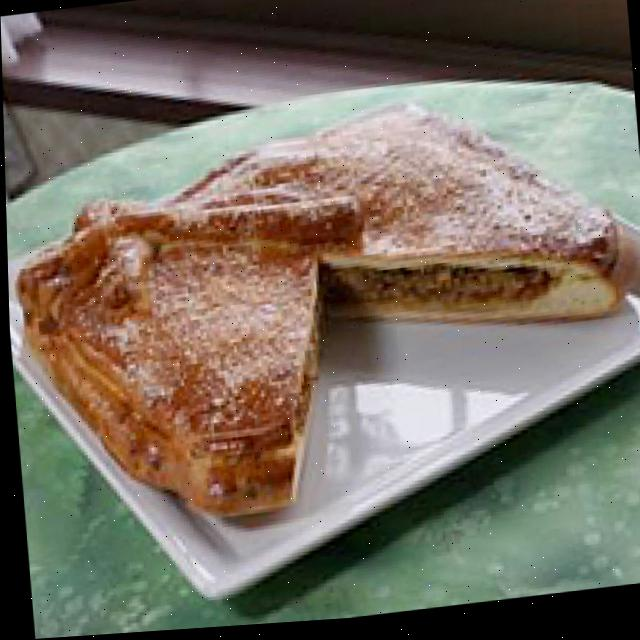三明治: (2, 64, 640, 551)
